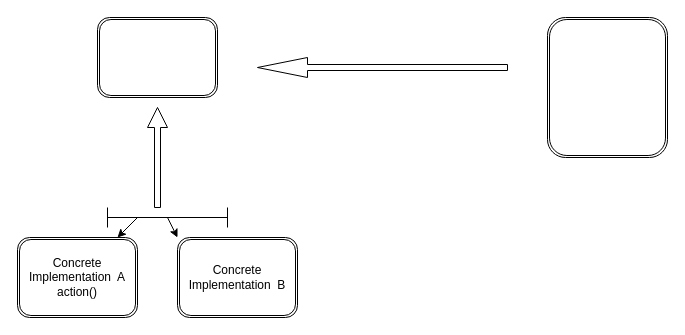
The diagram is 685 pixels wide and 335 high, and some of its shapes have lost their labels. The box of each missing label's shape, as (x1, y1, x2, y2) in pixels:
Context GetContext() SetState() GetState(): (546, 16, 668, 158)
State action(): (96, 16, 218, 98)
